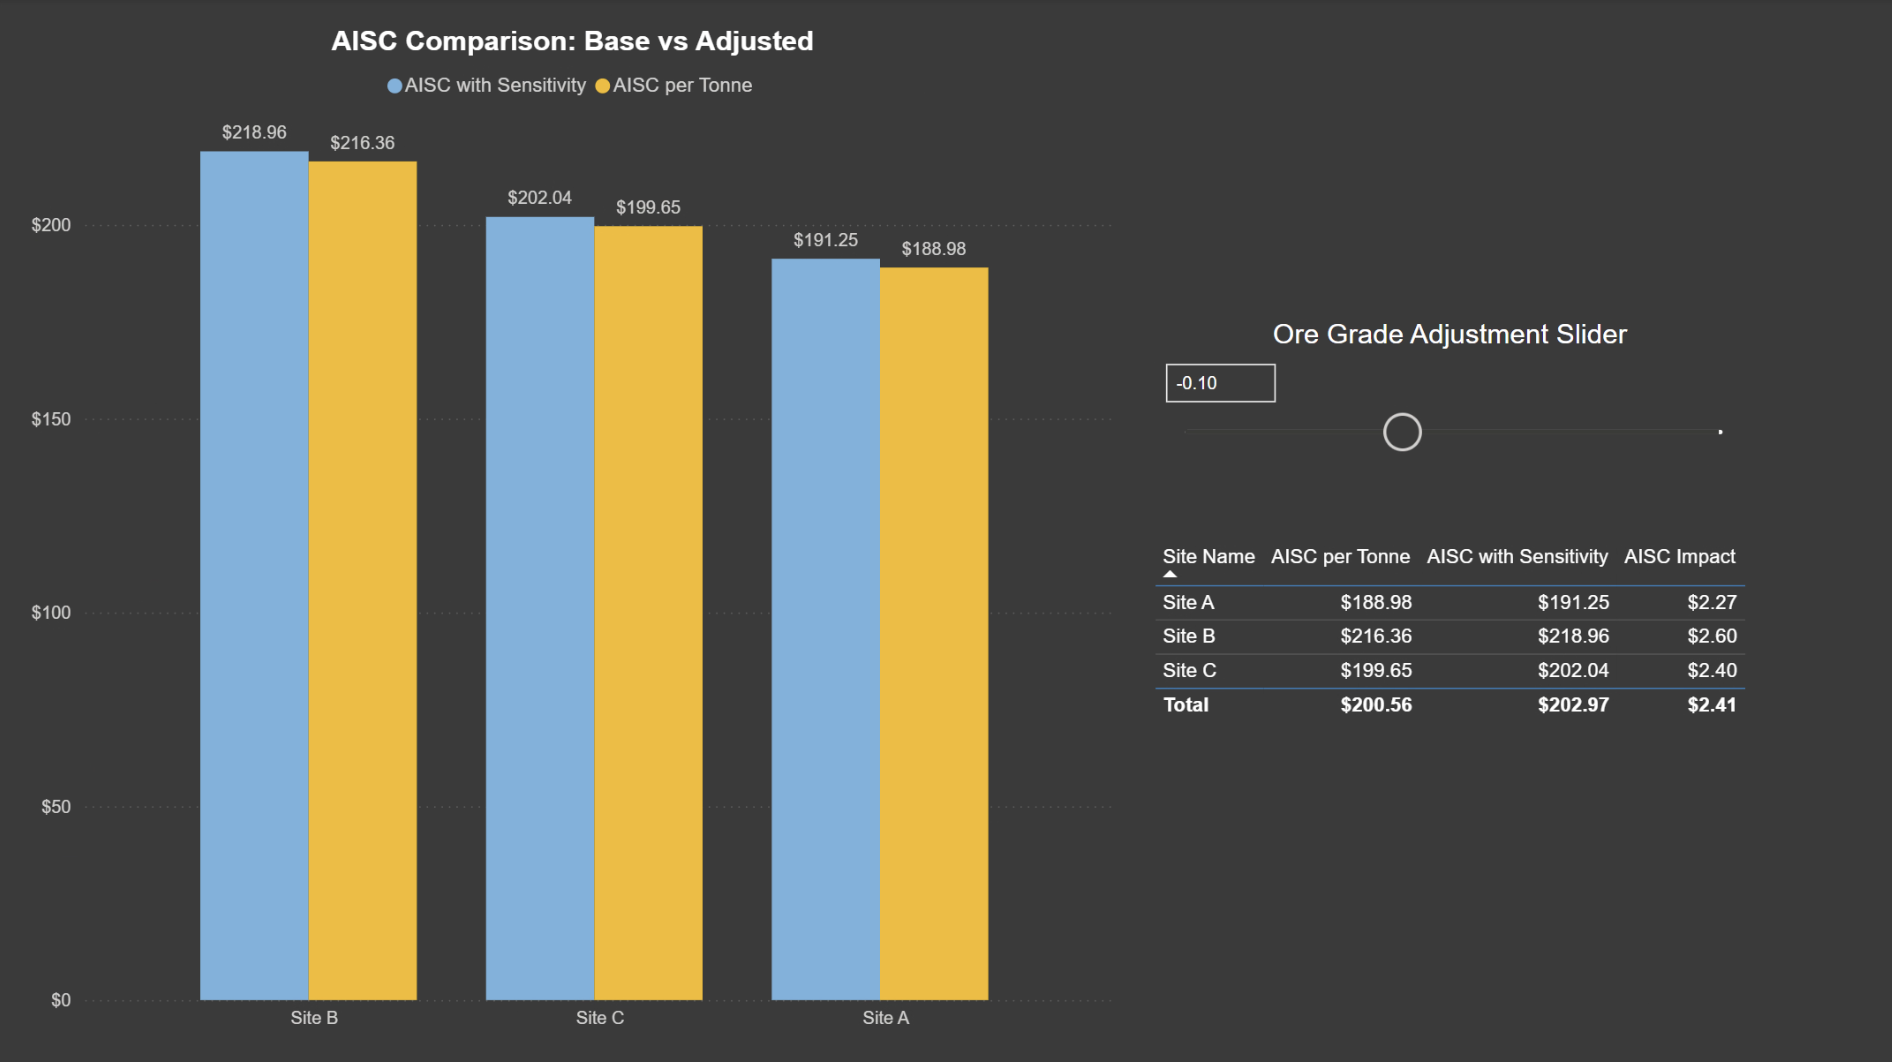

This screenshot's page, from the dashboard's own definition file:
{"tool":"powerbi","page":{"name":"Sensitivity Analysis","canvas":[1280,720],"ordinal":2},"visuals":[{"type":"tableEx","fields":{"Values":["DimSite.SiteName","FactCosts.AISC per Tonne","FactCosts.AISC with Sensitivity","FactCosts.AISC Impact"]},"box":[775,360,408.8,133.8],"z":0},{"type":"slicer","title":"Ore Grade Adjustment Slider","fields":{"Values":["Ore Grade Adjustment.Ore Grade Adjustment"]},"box":[775,215,408.8,113.8],"z":1000},{"type":"clusteredColumnChart","title":"AISC Comparison: Base vs Adjusted","fields":{"Category":["DimSite.SiteName"],"Y":["FactCosts.AISC with Sensitivity","FactCosts.AISC per Tonne"]},"box":[17.5,17.5,740,685],"z":2000}]}

Visuals, with their boxes in screenshot pixels (x1, y1, x2, y2), scaled from the page's 1280x720 canvas onto the 1892x1062 screenshot:
tableEx - DimSite.SiteName x FactCosts.AISC per Tonne: select_region(1146, 531, 1750, 728)
"Ore Grade Adjustment Slider" slicer: select_region(1146, 317, 1750, 485)
"AISC Comparison: Base vs Adjusted" clusteredColumnChart: select_region(26, 26, 1120, 1036)
